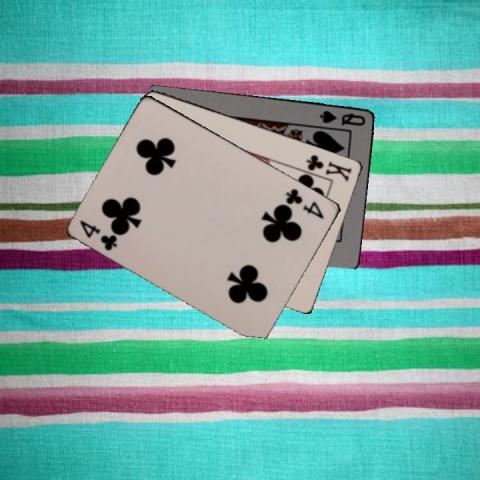4c: (283, 185, 326, 220), (77, 217, 119, 252)
Kc: (303, 150, 354, 182)
Qs: (317, 106, 367, 126)
